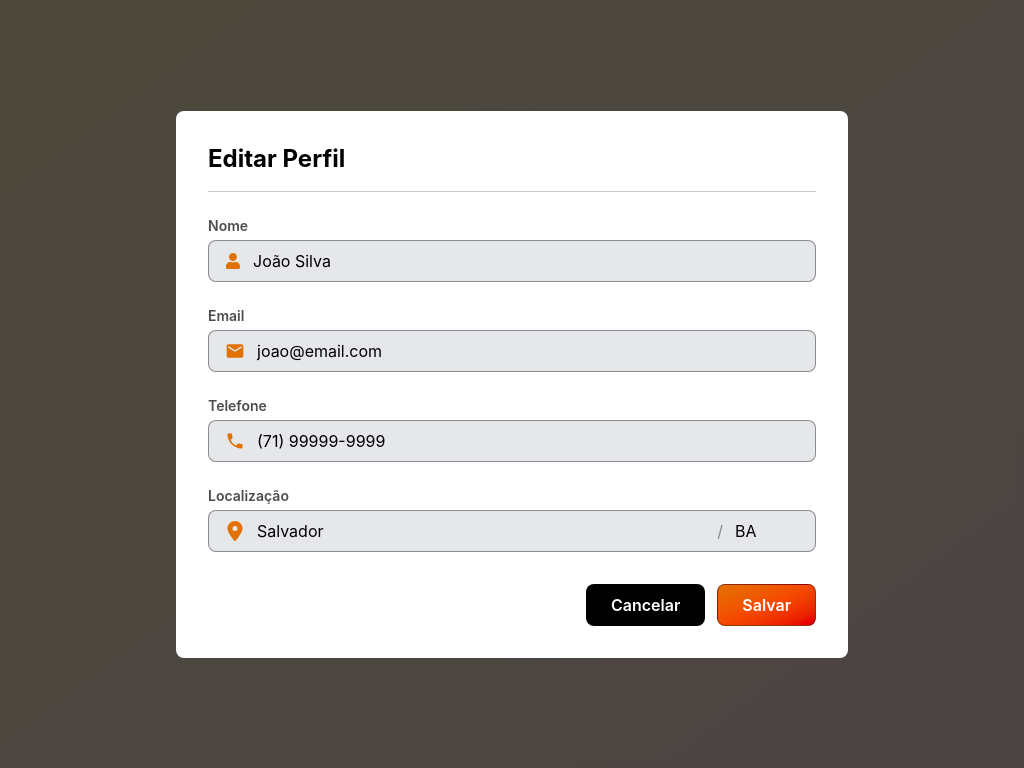
Test: shows error when email is empty
Clear the field with placeholder "Seu email" below "Email" at [528, 350], box [257,338,799,362]
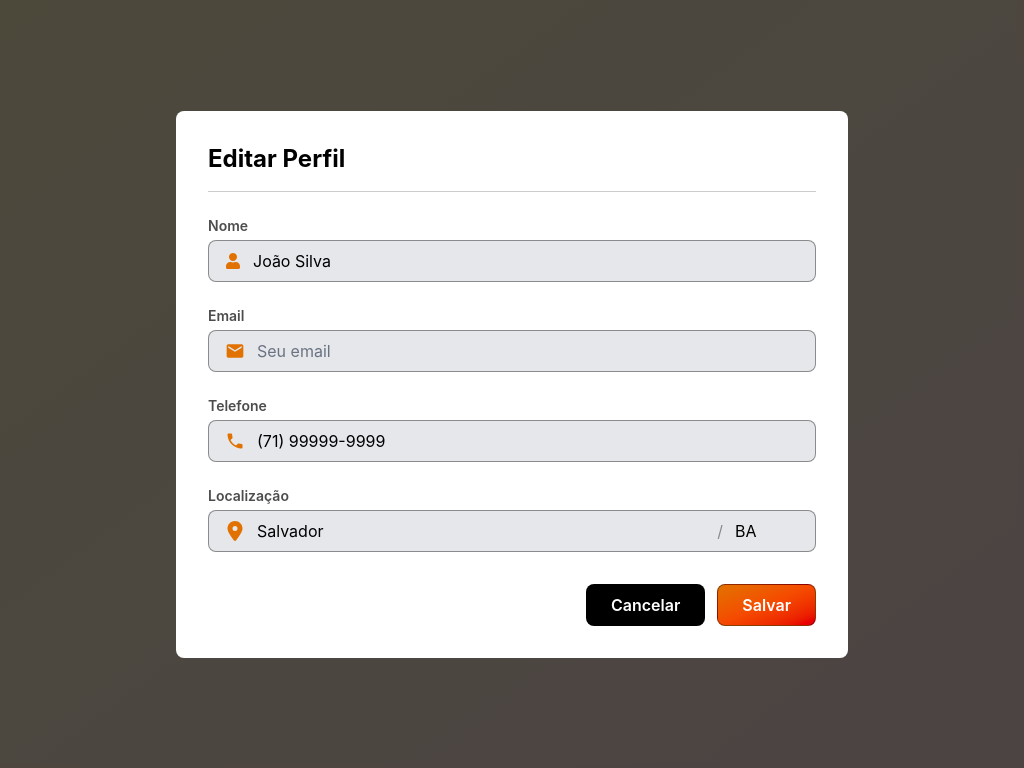
Click the button "Salvar" at [767, 604], box [717,584,816,626]
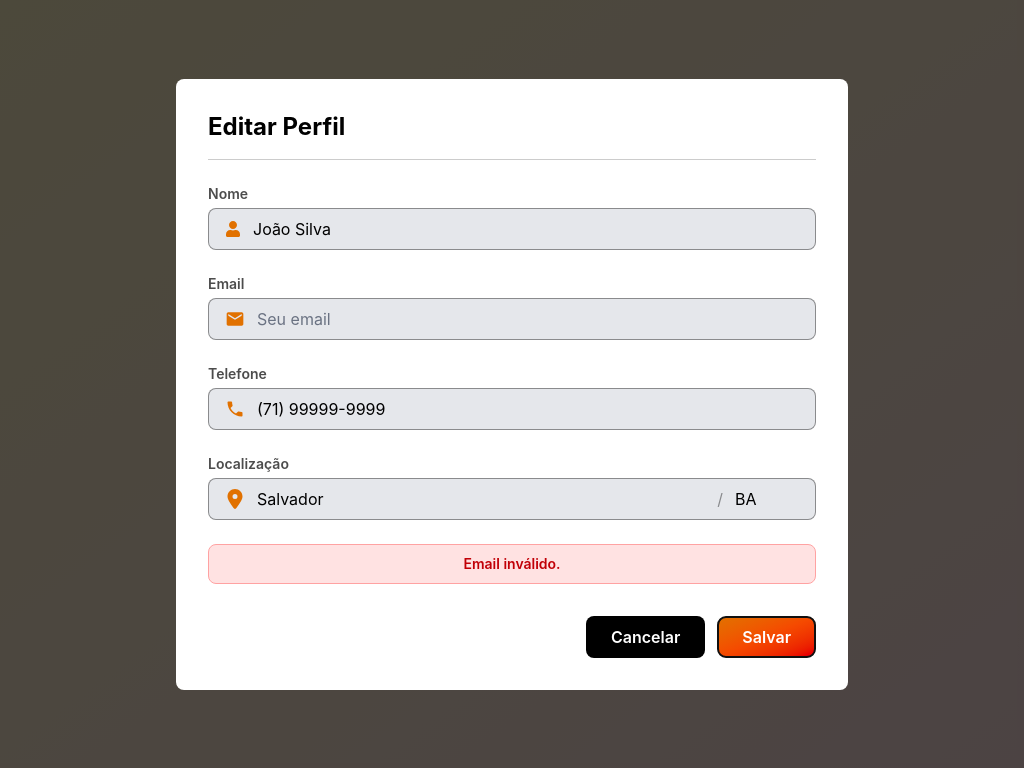
Result: the text "Email inválido." is shown at [208,544,816,584]
